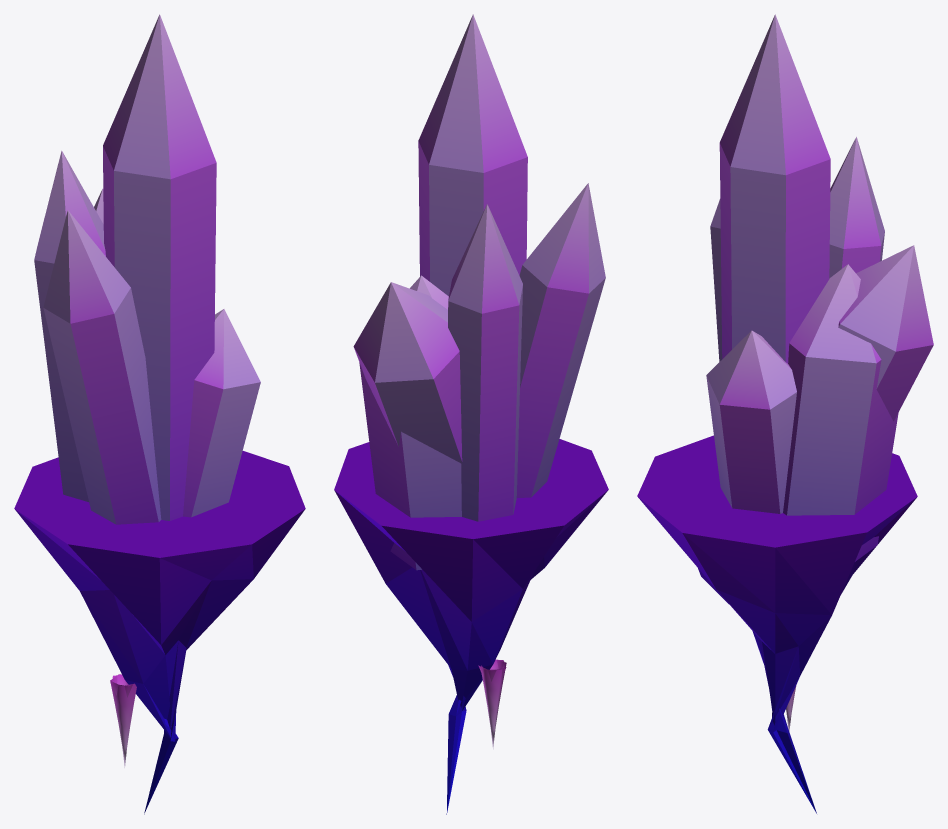
File: Kit_Crystal_Cluster_A.fbx
3 views of the same model, side by side, from view 1: azimuth 30°, elevation 25°; view 2: azimuth 150°, elevation 25°; view 3: azimuth 270°, elevation 25° (orthographic). The views are drawn at different scales.
Parts seen in each view (by area): view 1: Crystal_Cluster_A; view 2: Crystal_Cluster_A; view 3: Crystal_Cluster_A.
Part boxes in pixels (x1,y1,x2,y2): Crystal_Cluster_A: (14, 14, 305, 814); Crystal_Cluster_A: (334, 14, 608, 814); Crystal_Cluster_A: (637, 14, 933, 813).
Bounding box in the file's own units: 2.31 × 7.24 × 2.44.
